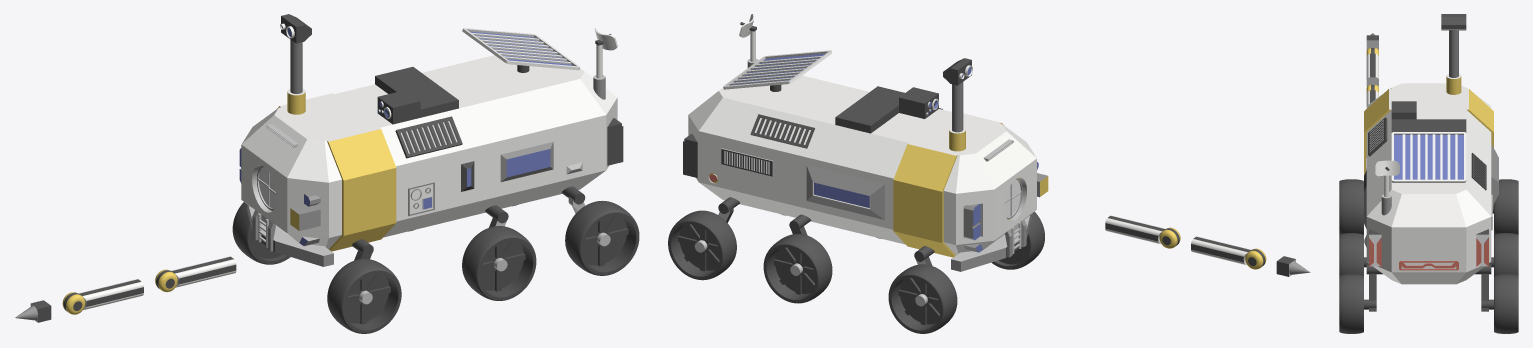
File: rover2.glb
The picture shows the model from 3 angles, left to right: view 1: azimuth 30°, elevation 25°; view 2: azimuth 150°, elevation 25°; view 3: azimuth 270°, elevation 25°; orthographic projection. The views are drawn at different scales.
Parts seen in each view (by area): view 1: rover2; view 2: rover2; view 3: rover2.
Boxes of the visible parts, x1=… form: rover2: x1=15, y1=14, x2=639, y2=333; rover2: x1=668, y1=14, x2=1310, y2=333; rover2: x1=1339, y1=14, x2=1518, y2=333.
Size of the model in its own units: 23.28 by 9.6 by 7.2.
